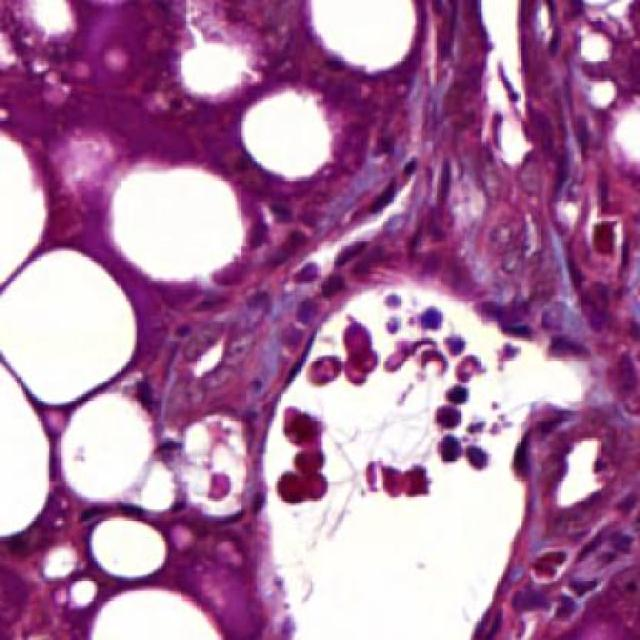steatosis: (111, 165, 248, 277), (57, 392, 161, 491), (94, 512, 173, 586)
